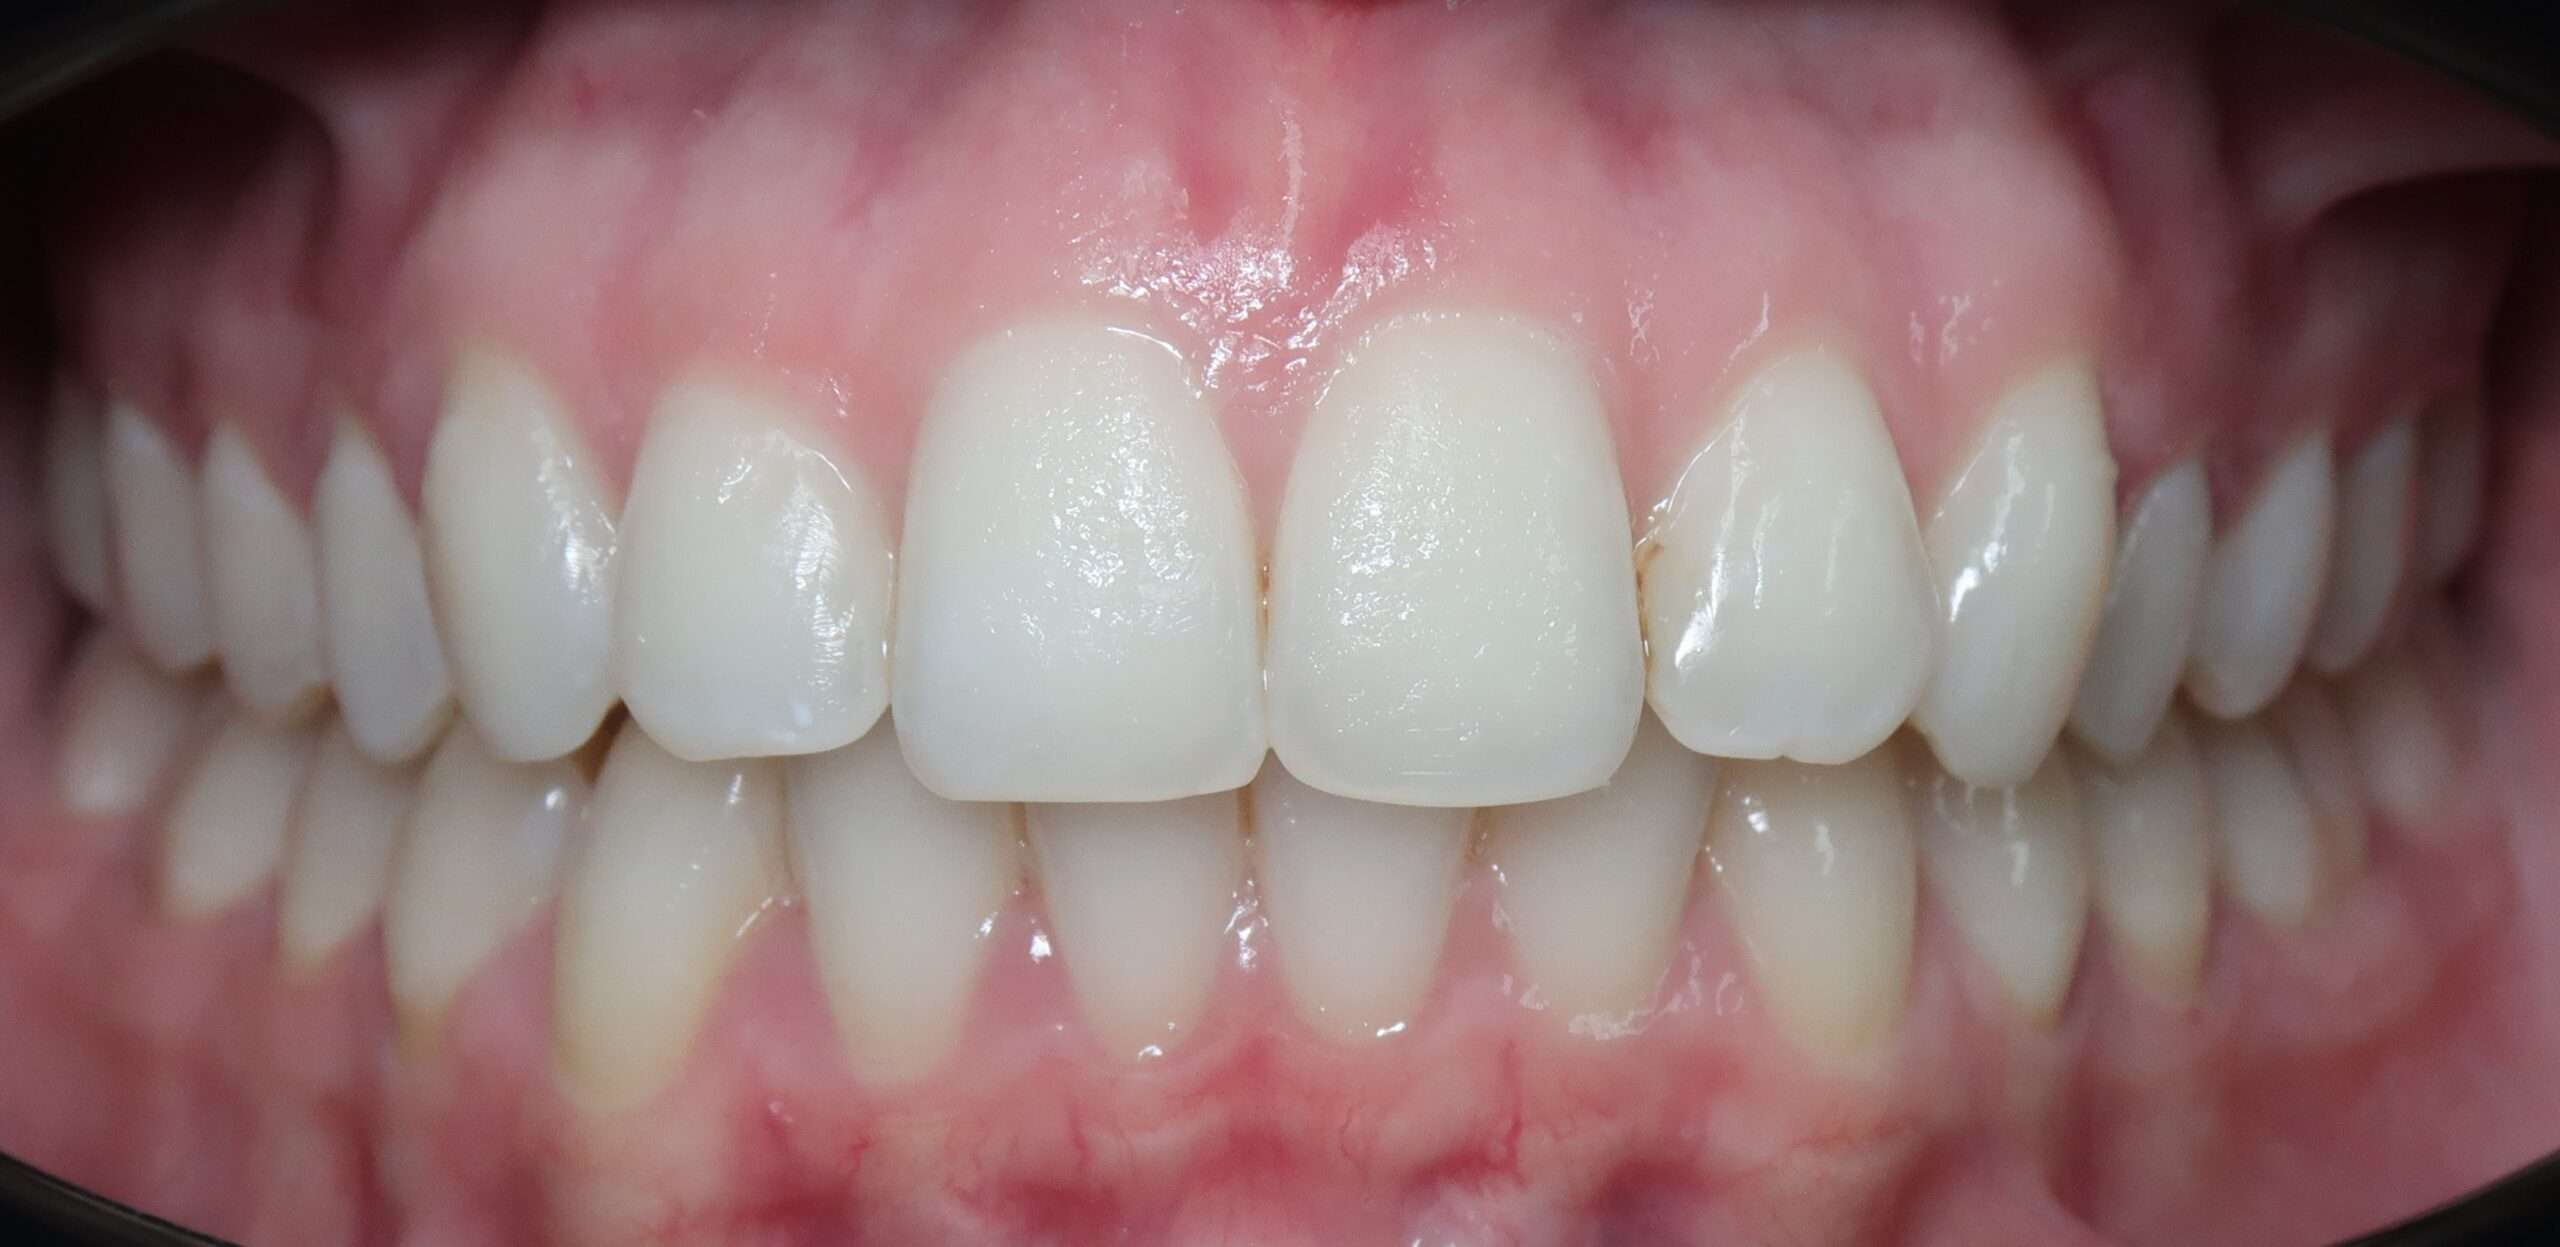LLCI_healthy: (1256, 783, 1474, 1084)
LR1BC_healthy: (364, 746, 557, 1076), (1935, 762, 2095, 1076)
LR1M_healthy: (2230, 748, 2410, 968), (170, 721, 287, 932)
LR2BC_healthy: (2090, 782, 2233, 1046), (269, 743, 400, 973)
LRCI_healthy: (1048, 793, 1247, 1063)
LRC_healthy: (545, 757, 784, 1087), (1709, 757, 1925, 1107)
LRLI_healthy: (795, 746, 1014, 1084), (1478, 766, 1709, 1054)
UL1BC_healthy: (2098, 441, 2224, 779)
UL1M_healthy: (2335, 433, 2431, 690)
UL2BC_healthy: (2212, 446, 2340, 734)
ULCI_healthy: (1264, 308, 1647, 797)
ULC_healthy: (1912, 351, 2126, 790)
ULLI_healthy: (1652, 354, 1948, 759)
UR1BC_healthy: (300, 421, 462, 774)
UR1M_healthy: (98, 418, 225, 699)
UR2BC_healthy: (194, 415, 320, 746)
URCI_healthy: (890, 326, 1278, 805)
URC_healthy: (403, 348, 629, 757)
URLI_healthy: (606, 375, 895, 787)
